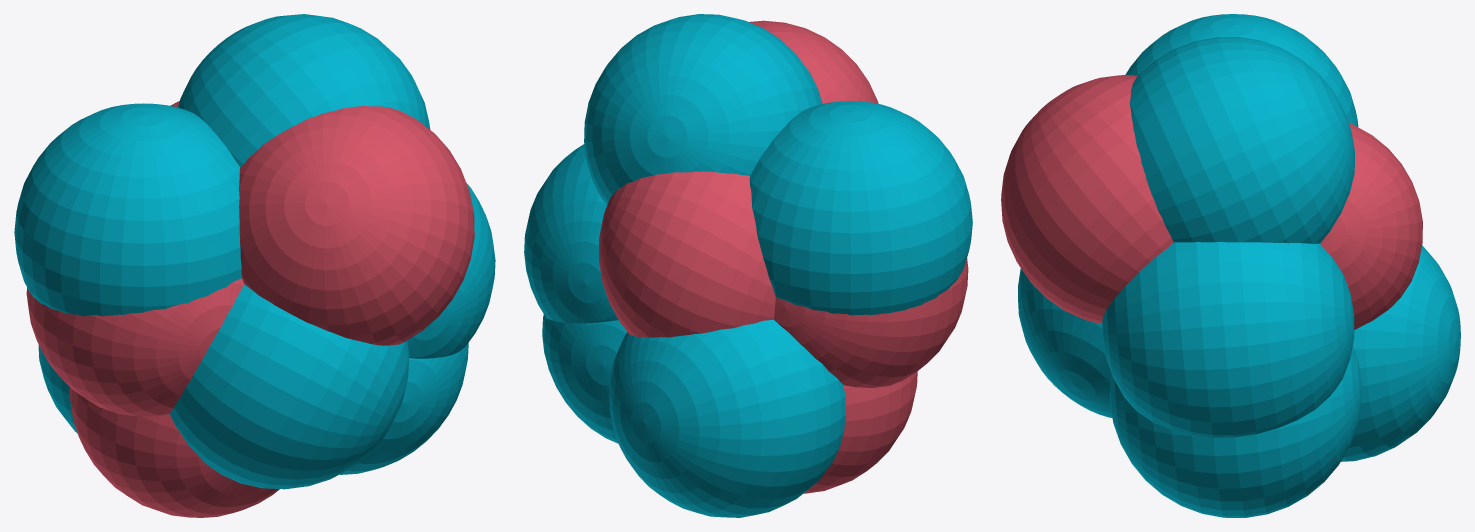
File: atomic.glb
3 renders of one model, left to right at view 1: azimuth 30°, elevation 25°; view 2: azimuth 150°, elevation 25°; view 3: azimuth 270°, elevation 25°, orthographic. The views are drawn at different scales.
Visible parts, largest first — view 1: Mesh_Mesh_head_geo.001_lambert2SG.001; view 2: Mesh_Mesh_head_geo.001_lambert2SG.001; view 3: Mesh_Mesh_head_geo.001_lambert2SG.001.
Part boxes in pixels (x1,y1,x2,y2): Mesh_Mesh_head_geo.001_lambert2SG.001: (14,14,495,517); Mesh_Mesh_head_geo.001_lambert2SG.001: (524,14,972,517); Mesh_Mesh_head_geo.001_lambert2SG.001: (1001,14,1460,517).
Size of the model in its own units: 39.57 by 38.99 by 36.38.
